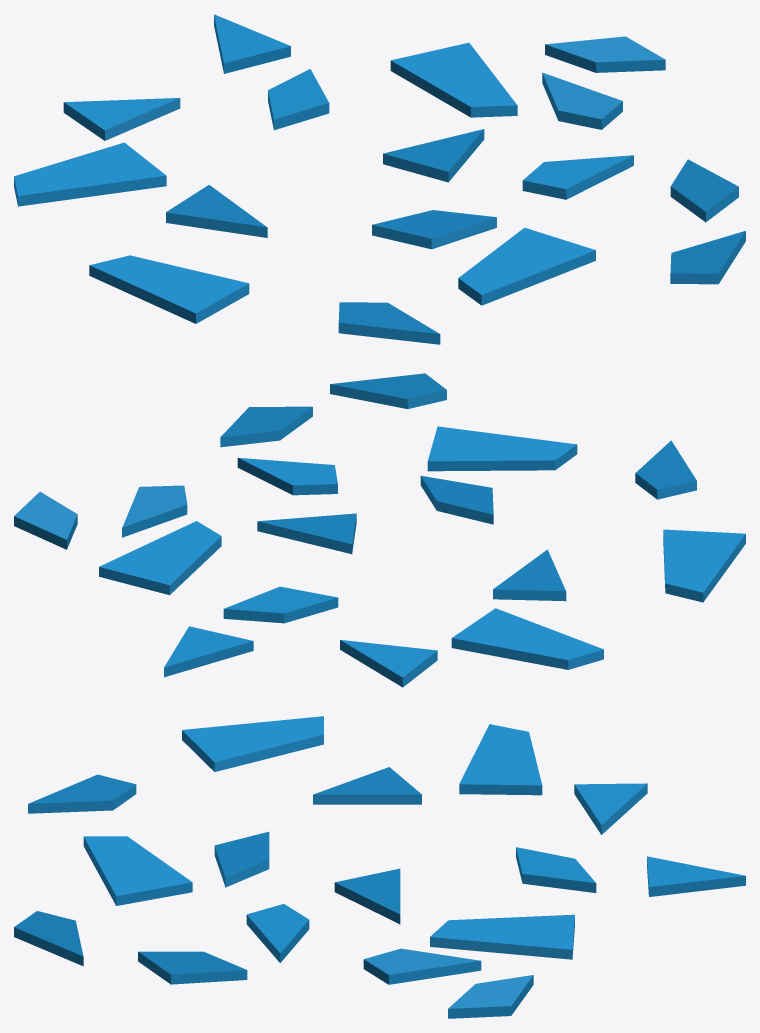
File: glass shards.gltf
The picture shows the model from 3 angles, top to bottom: view 1: azimuth 30°, elevation 25°; view 2: azimuth 150°, elevation 25°; view 3: azimuth 270°, elevation 25°; orthographic projection. The views are drawn at different scales.
Visible parts, largest first — view 1: cuboid (×12), cube (×4); view 2: cuboid (×12), cube (×4); view 3: cuboid (×12), cube (×4).
Part boxes in pixels (x1,y1,x2,y2): cuboid (×12): (63,14,745,344); cube (×4): (14,42,595,323); cuboid (×12): (14,373,696,687); cube (×4): (99,426,745,669); cuboid (×12): (14,767,745,1018); cube (×4): (83,716,574,959).
Size of the model in its own units: 0.3964 by 0.00625 by 0.4188.
Materials: 1 (1 with a texture image).
